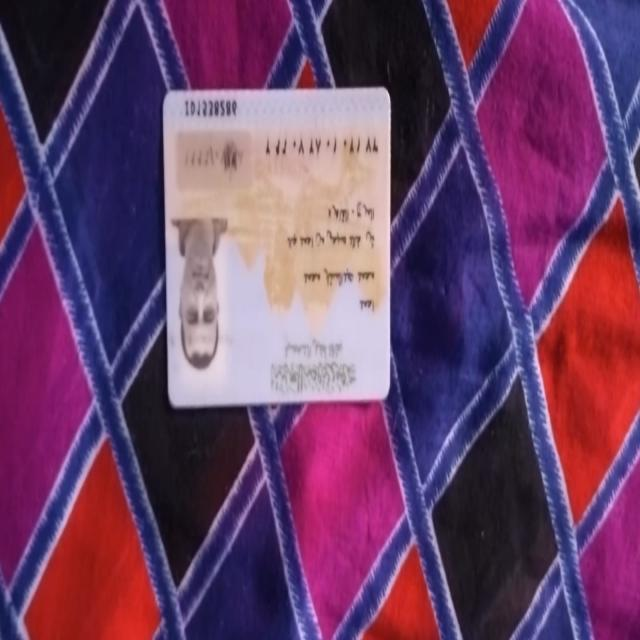id_card: (153, 70, 396, 419)
